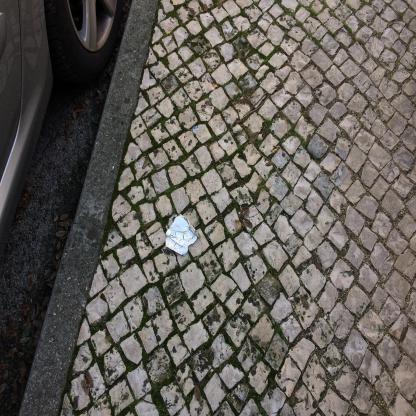metal: (166, 217, 202, 257)
